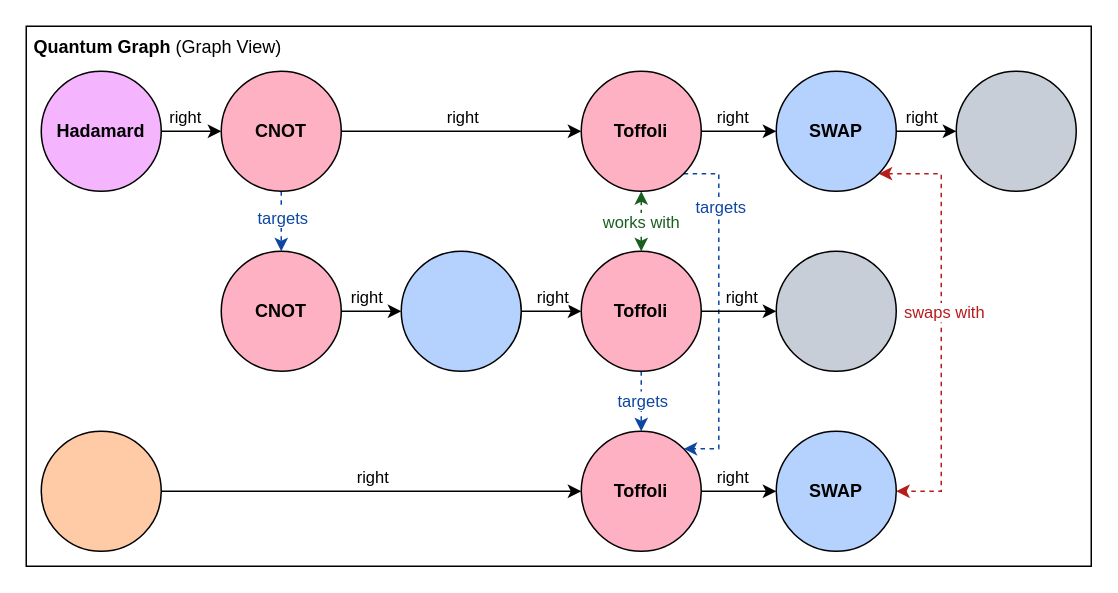
This 1118x593 diagram has some shape labels left out. The shapes that lost their labels are listed below. From the top down, each one's box as (x1, y1, x2, y2) in pixels, then its label:
(955, 70, 1076, 191): Measure clasical bit : 0
(400, 250, 521, 371): RZ phi : π / 4
(775, 250, 896, 371): Measure clasical bit : 1
(40, 430, 161, 551): Unitary theta : π / 2 phi : 0 lambda : π
